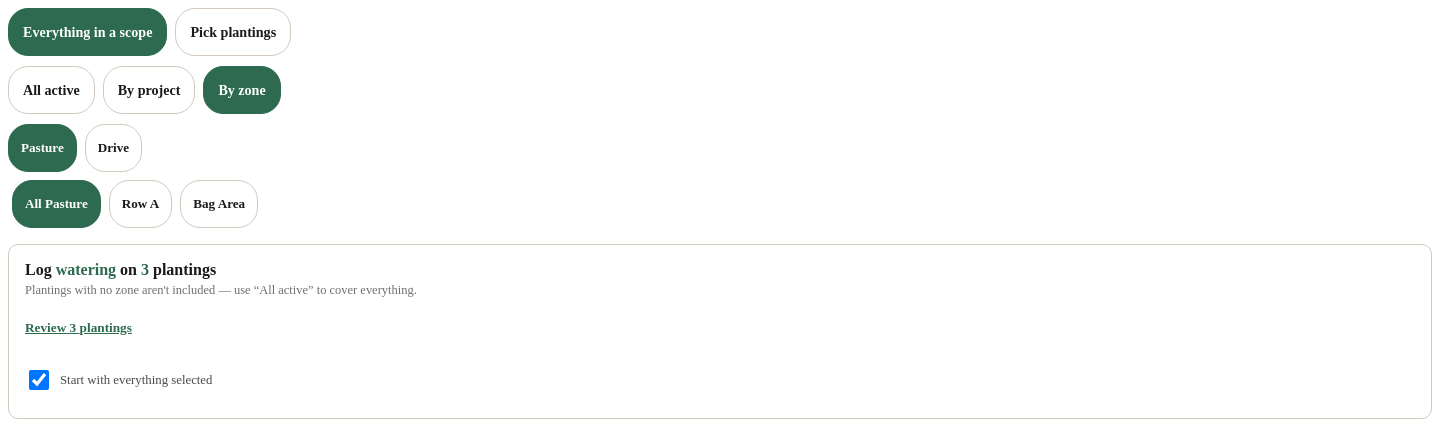
Test: ScopeChecklist — By zone 2-tier hierarchy (V4-LOGMANYLOC-001) › switching to a childless zone hides the sub-location row
The width and height of the screenshot is (1440, 436).
Expected: the button "Row A" is shown, [109,180,172,228]
Click the button "Drive": (113, 148) [85,124,142,172]
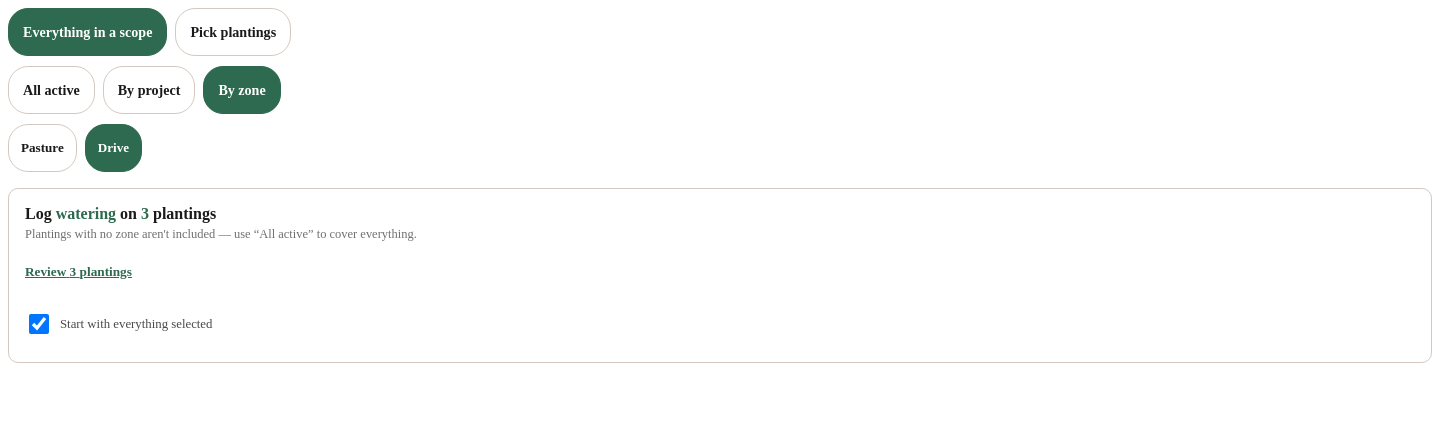
Expected: the button "Row A" is gone
